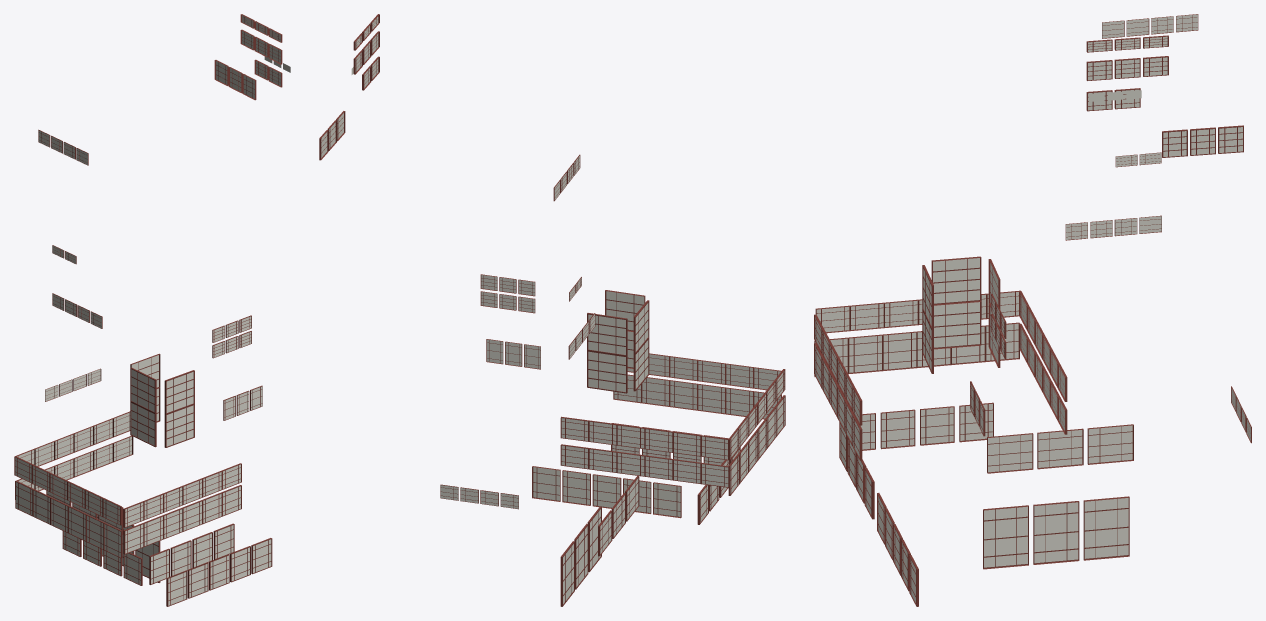
File: fenétre papier 02.fbx
The picture shows the model from 3 angles, left to right: view 1: azimuth 30°, elevation 25°; view 2: azimuth 150°, elevation 25°; view 3: azimuth 270°, elevation 25°; orthographic projection. The views are drawn at different scales.
Visible parts, largest first — view 1: Plane.536, Plane.526, Plane.402, Plane.535, Plane.371, Plane.527, Plane.533, Plane.408, Plane.409, Plane.534, Plane.731, Plane.735 (+11 smaller); view 2: Plane.536, Plane.534, Plane.533, Plane.402, Plane.410, Plane.371, Plane.416, Plane.526, Plane.732, Plane.527, Plane.409, Plane.408 (+8 smaller); view 3: Plane.416, Plane.732, Plane.526, Plane.409, Plane.731, Plane.735, Plane.527, Plane.496, Plane.536, Plane.402, Plane.474, Plane.533 (+7 smaller).
Boxes of the visible parts, left/top/right/bottom form: Plane.536: left=166, top=538, right=272, bottom=606; Plane.526: left=15, top=480, right=122, bottom=558; Plane.402: left=123, top=485, right=241, bottom=554; Plane.535: left=149, top=523, right=234, bottom=584; Plane.371: left=123, top=463, right=241, bottom=527; Plane.527: left=14, top=456, right=121, bottom=525; Plane.533: left=15, top=411, right=130, bottom=466; Plane.408: left=164, top=370, right=194, bottom=447; Plane.409: left=130, top=367, right=156, bottom=447; Plane.534: left=15, top=435, right=133, bottom=499; Plane.731: left=62, top=531, right=142, bottom=585; Plane.735: left=38, top=129, right=102, bottom=328; Plane.536: left=532, top=466, right=681, bottom=518; Plane.534: left=560, top=444, right=729, bottom=487; Plane.533: left=560, top=416, right=729, bottom=460; Plane.402: left=613, top=374, right=781, bottom=419; Plane.410: left=587, top=313, right=627, bottom=393; Plane.371: left=627, top=353, right=781, bottom=390; Plane.416: left=560, top=506, right=601, bottom=606; Plane.526: left=728, top=395, right=785, bottom=495; Plane.732: left=598, top=476, right=639, bottom=556; Plane.527: left=728, top=369, right=785, bottom=460; Plane.409: left=633, top=300, right=649, bottom=391; Plane.408: left=605, top=290, right=645, bottom=368; Plane.416: left=983, top=496, right=1129, bottom=569; Plane.732: left=987, top=424, right=1133, bottom=473; Plane.526: left=814, top=322, right=1019, bottom=376; Plane.409: left=931, top=256, right=981, bottom=349; Plane.731: left=861, top=402, right=993, bottom=450; Plane.735: left=1065, top=14, right=1198, bottom=240; Plane.527: left=815, top=290, right=1020, bottom=333; Plane.496: left=1162, top=125, right=1243, bottom=157; Plane.536: left=877, top=493, right=918, bottom=606; Plane.402: left=814, top=343, right=862, bottom=460; Plane.474: left=1086, top=56, right=1168, bottom=80; Plane.533: left=1019, top=291, right=1067, bottom=401.
Size of the model in its own units: 5996 by 9101 by 5725.
